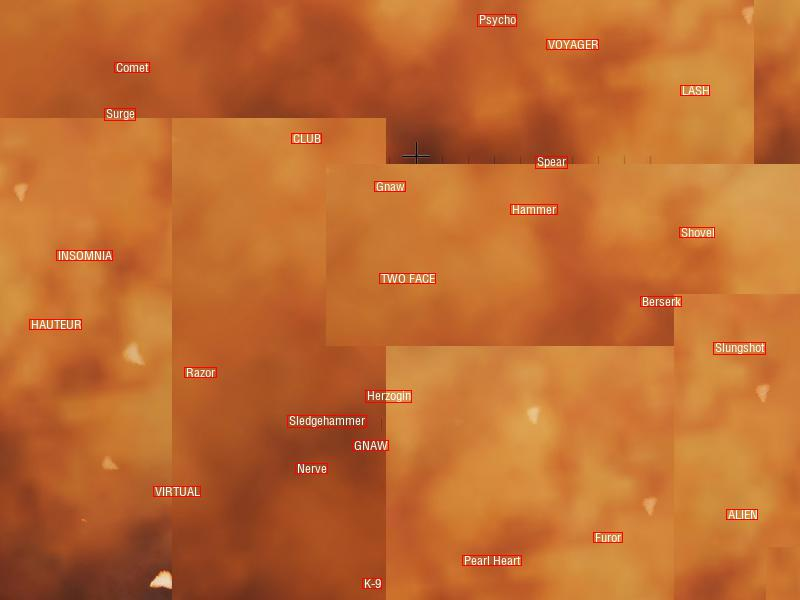line: (288, 416, 365, 426), (714, 343, 764, 353), (463, 556, 520, 564), (366, 391, 410, 401), (57, 251, 111, 259), (380, 274, 434, 282), (547, 40, 597, 48), (30, 320, 80, 328), (478, 15, 515, 25), (511, 205, 556, 213), (154, 487, 199, 495), (641, 297, 680, 305), (536, 157, 566, 167), (105, 109, 134, 119), (353, 441, 387, 449), (115, 63, 148, 71), (680, 228, 713, 236), (185, 368, 215, 376), (296, 464, 326, 472), (375, 182, 404, 190), (727, 510, 756, 518), (292, 134, 320, 142), (681, 86, 708, 94), (594, 533, 621, 541), (363, 579, 380, 587)
